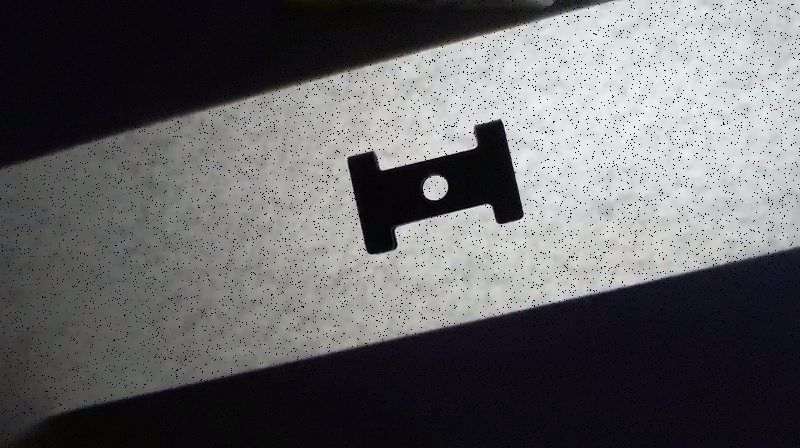O002: (342, 112, 526, 257)
